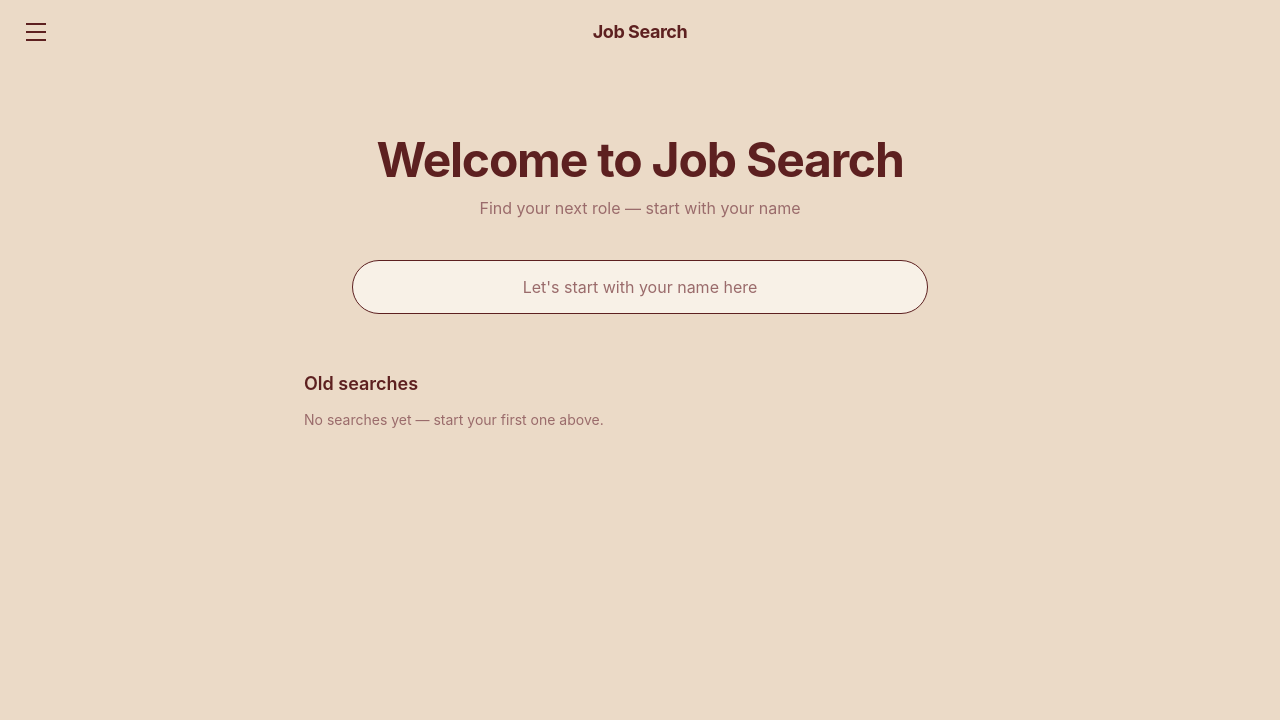
Test: welcome page (3.8i) › hamburger opens the drawer with main destinations and navigates
Later steps or results of the test are not shown.
Click the button named "Open menu" at (36, 32), box [16,12,56,52]
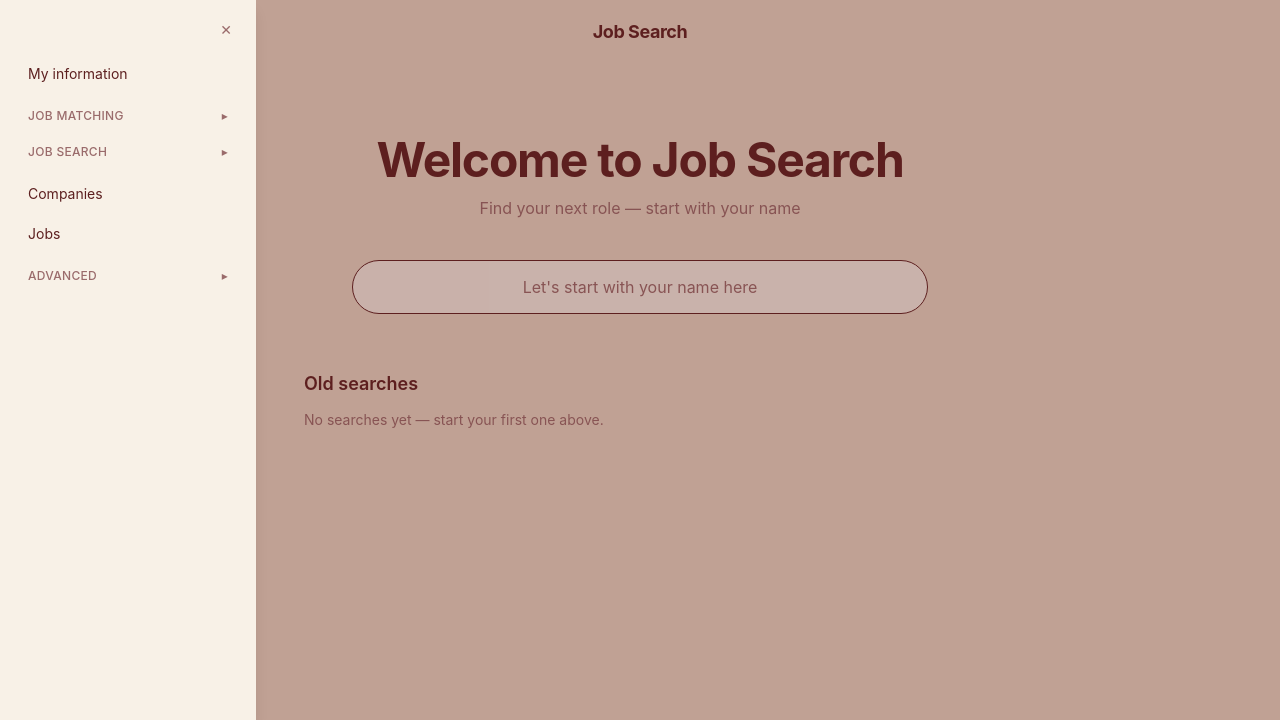
Expected: the navigation bar named "Main menu" is shown, [0,0,256,719]
Expected: the link "Companies" is shown, [28,185,103,202]
